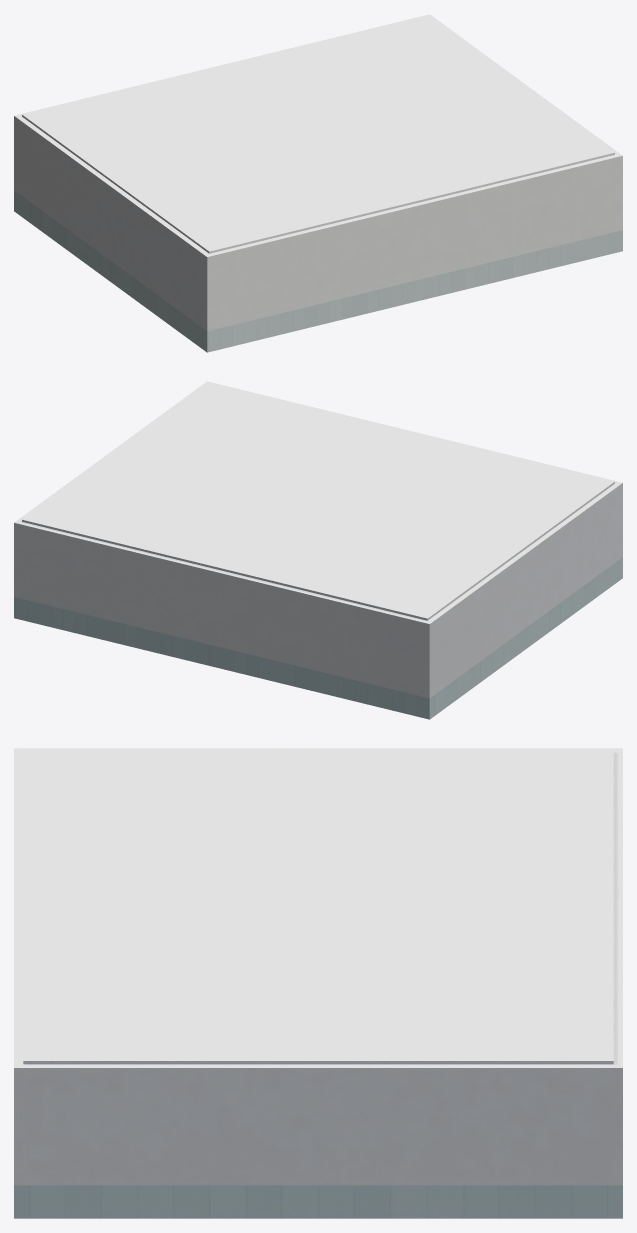
File: room_cases_v1.glb
3 views of the same model, one above another, from view 1: azimuth 30°, elevation 25°; view 2: azimuth 150°, elevation 25°; view 3: azimuth 270°, elevation 25° (orthographic). The views are drawn at different scales.
Parts seen in each view (by area): view 1: R_cases_shell; view 2: R_cases_shell; view 3: R_cases_shell.
Part boxes in pixels (box(x1,y1,x2,y2)): R_cases_shell: box(14, 14, 622, 352); R_cases_shell: box(14, 381, 622, 719); R_cases_shell: box(14, 748, 622, 1218).
Bounding box in the file's own units: 20.5 × 4.7 × 16.5.
Materials: 5 (5 with a texture image).
